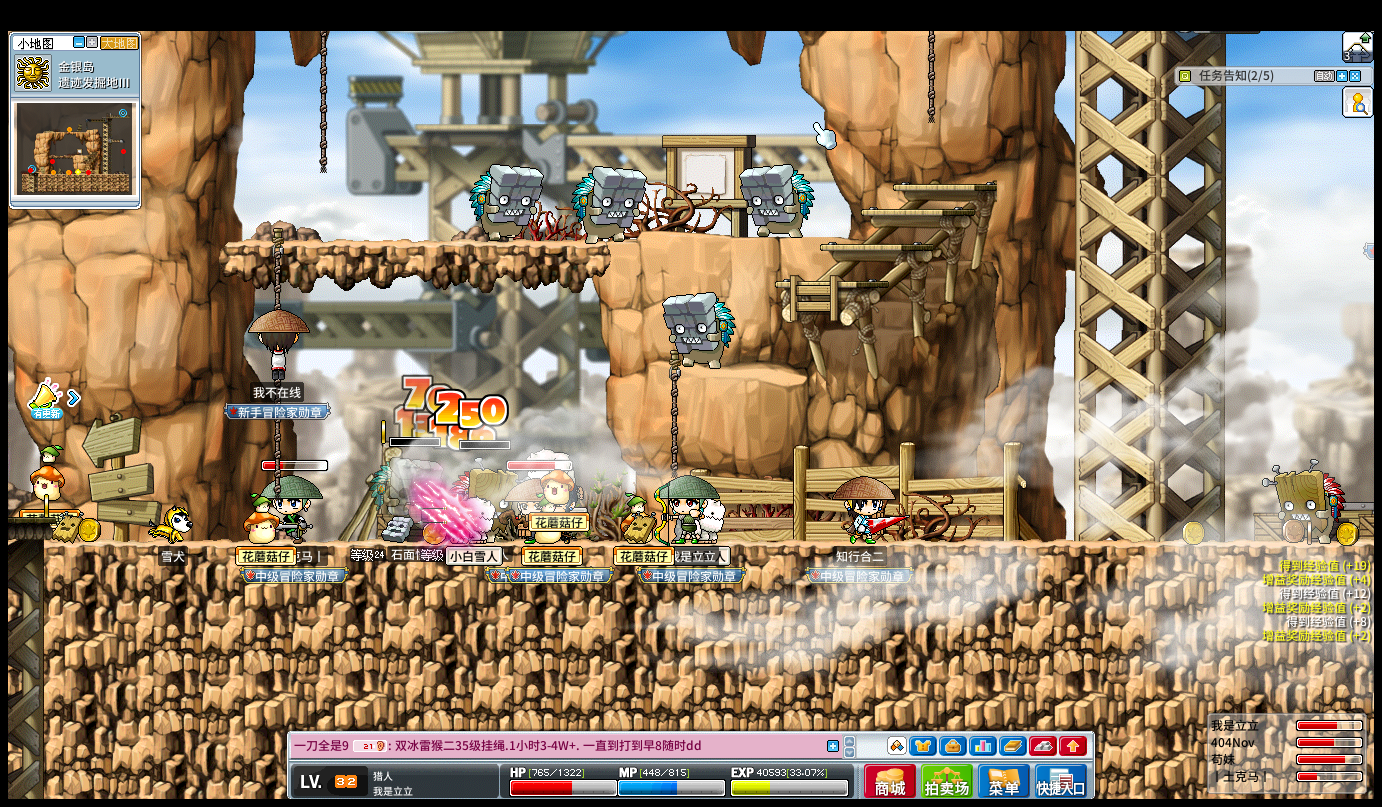floor: (43, 535, 1374, 556), (223, 237, 612, 249), (704, 363, 809, 385), (654, 234, 861, 245), (773, 279, 889, 288), (860, 207, 973, 215), (891, 184, 998, 192), (821, 243, 937, 250), (4, 514, 48, 522)
monster: (1267, 462, 1345, 541), (572, 165, 645, 243), (661, 292, 734, 369), (470, 164, 542, 242), (740, 164, 814, 239), (367, 460, 442, 513), (457, 460, 514, 501)
rope: (668, 360, 682, 476), (318, 32, 327, 174), (271, 225, 285, 308), (924, 31, 935, 122)
